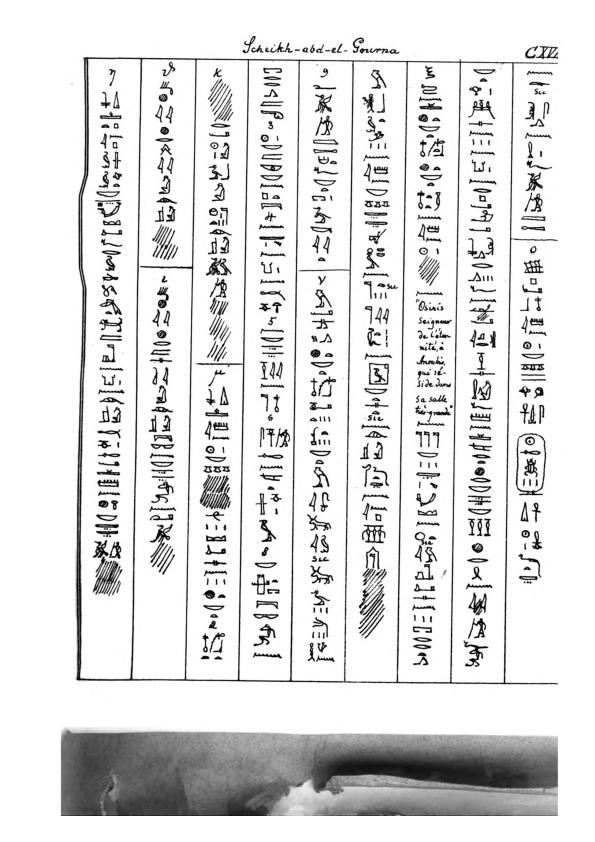circle: (514, 432, 547, 498)
